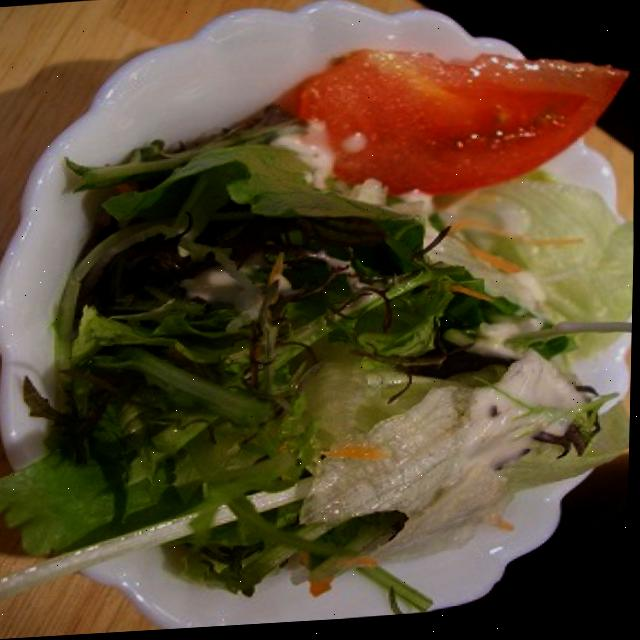蔬菜料理: (2, 0, 638, 623)
